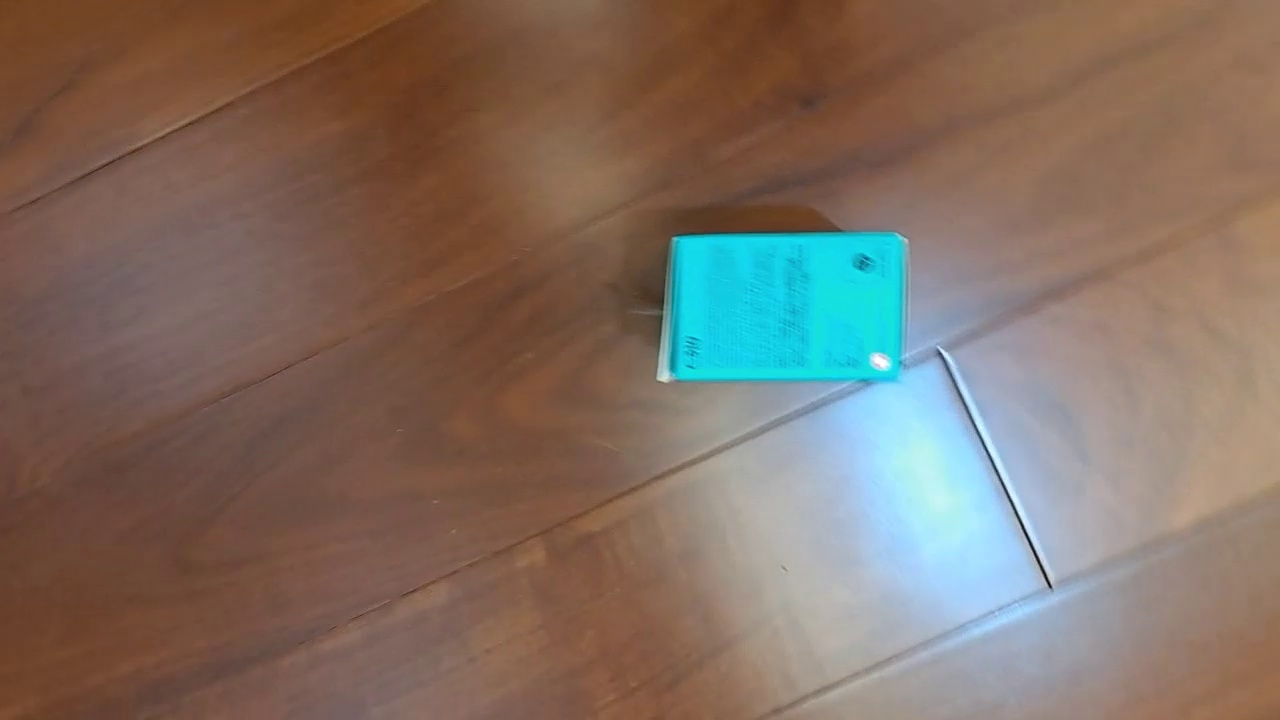webcam: (655, 230, 911, 384)
